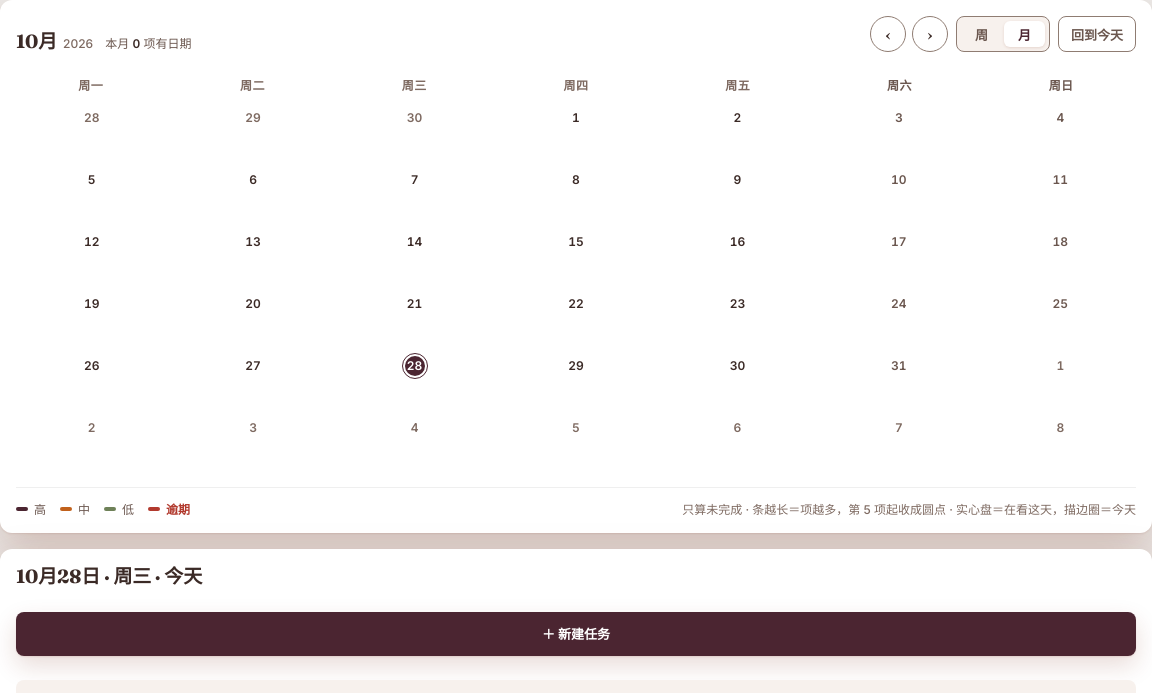
it: TasksView calendar › a finished task keeps its line in the day but never its mark
Click the button with class "seg-btn" showing "周": (982, 34) [961,21,1002,47]
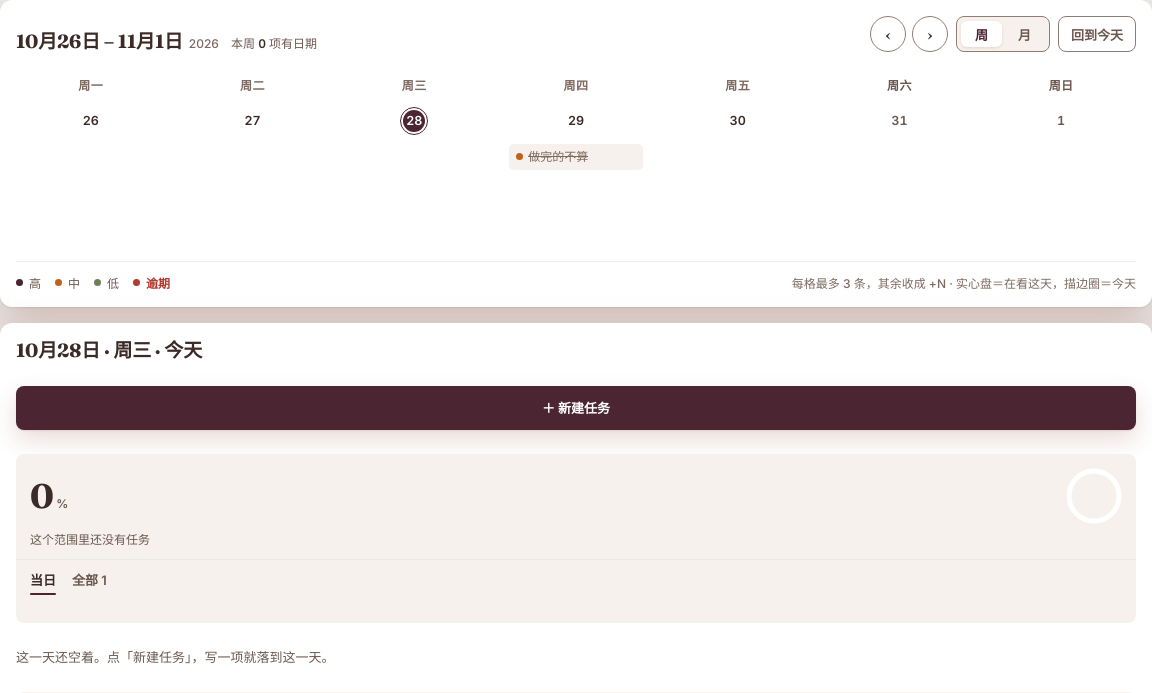
Now the text "做完的不算" is shown, box [528,149,588,165]
